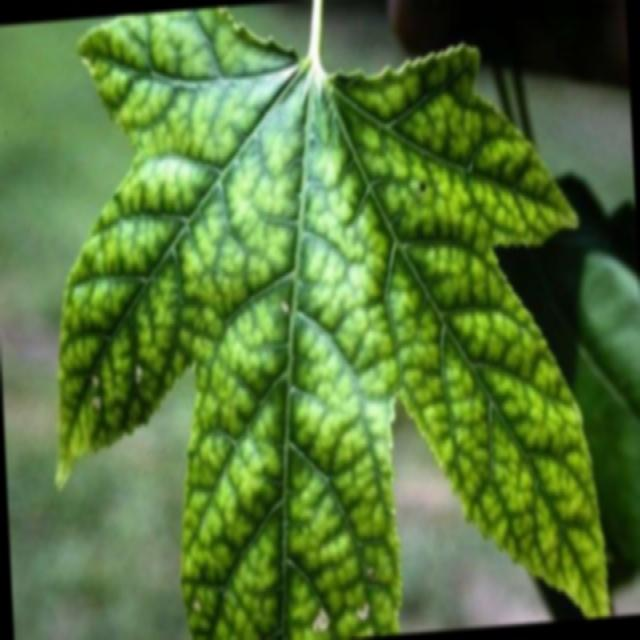Chlorosis: (43, 0, 606, 637)
